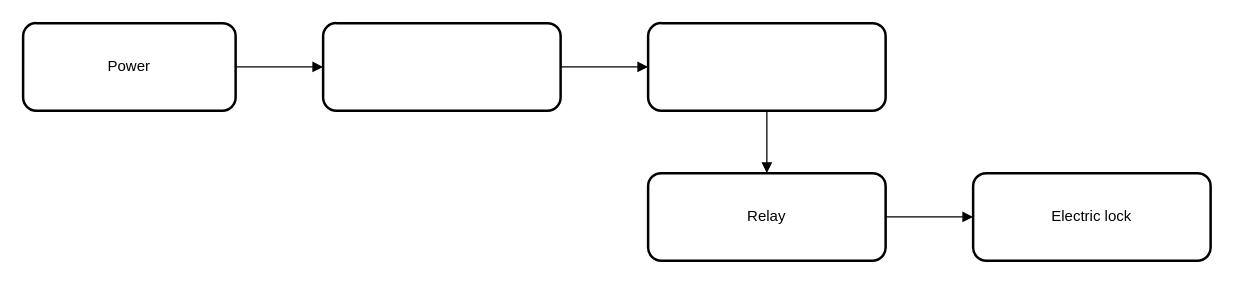
Image size: 1233x283. Some labels were removed from this diagram. The shapes that lost their labels are listed below. From the top down, each one's centre as x and y in pixels, then its label:
the point at 441,66: ESP8266
the point at 766,66: Keypad 4x4
